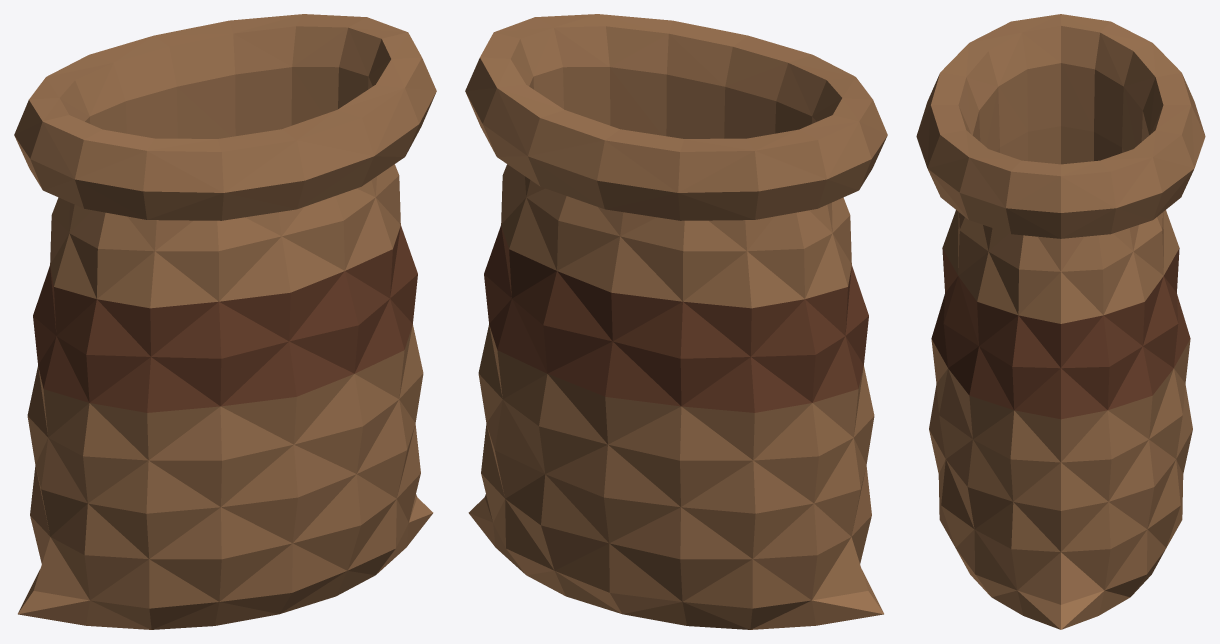
Rendered from race-sack-04eb6d.glb.
3 views of the same model, side by side, from view 1: azimuth 30°, elevation 25°; view 2: azimuth 150°, elevation 25°; view 3: azimuth 270°, elevation 25° (orthographic). The views are drawn at different scales.
Parts seen in each view (by area): view 1: sack; view 2: sack; view 3: sack.
Part boxes in pixels (<box>): sack: <box>14,14,436,629</box>; sack: <box>465,14,887,629</box>; sack: <box>916,14,1205,629</box>.
Size of the model in its own units: 0.71 by 0.8115 by 0.4699.
